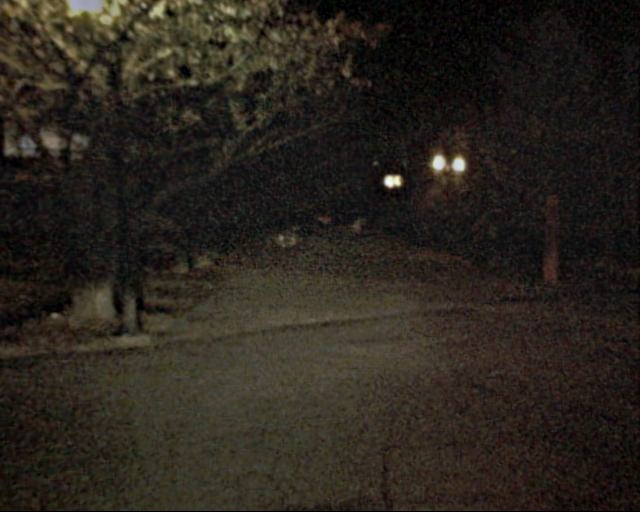person: (347, 219, 366, 265)
